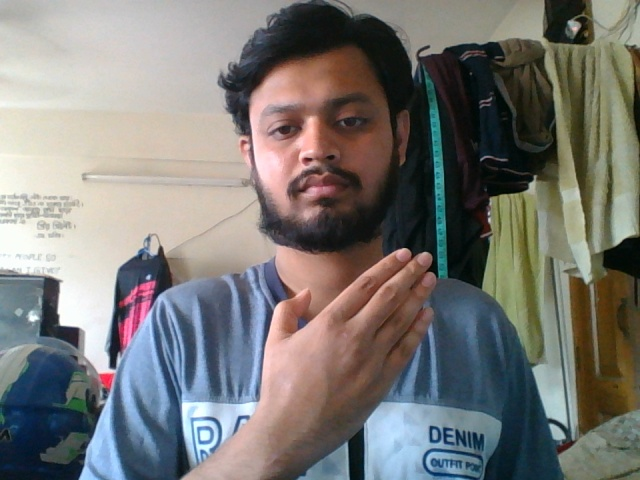ami: (228, 246, 441, 436)
